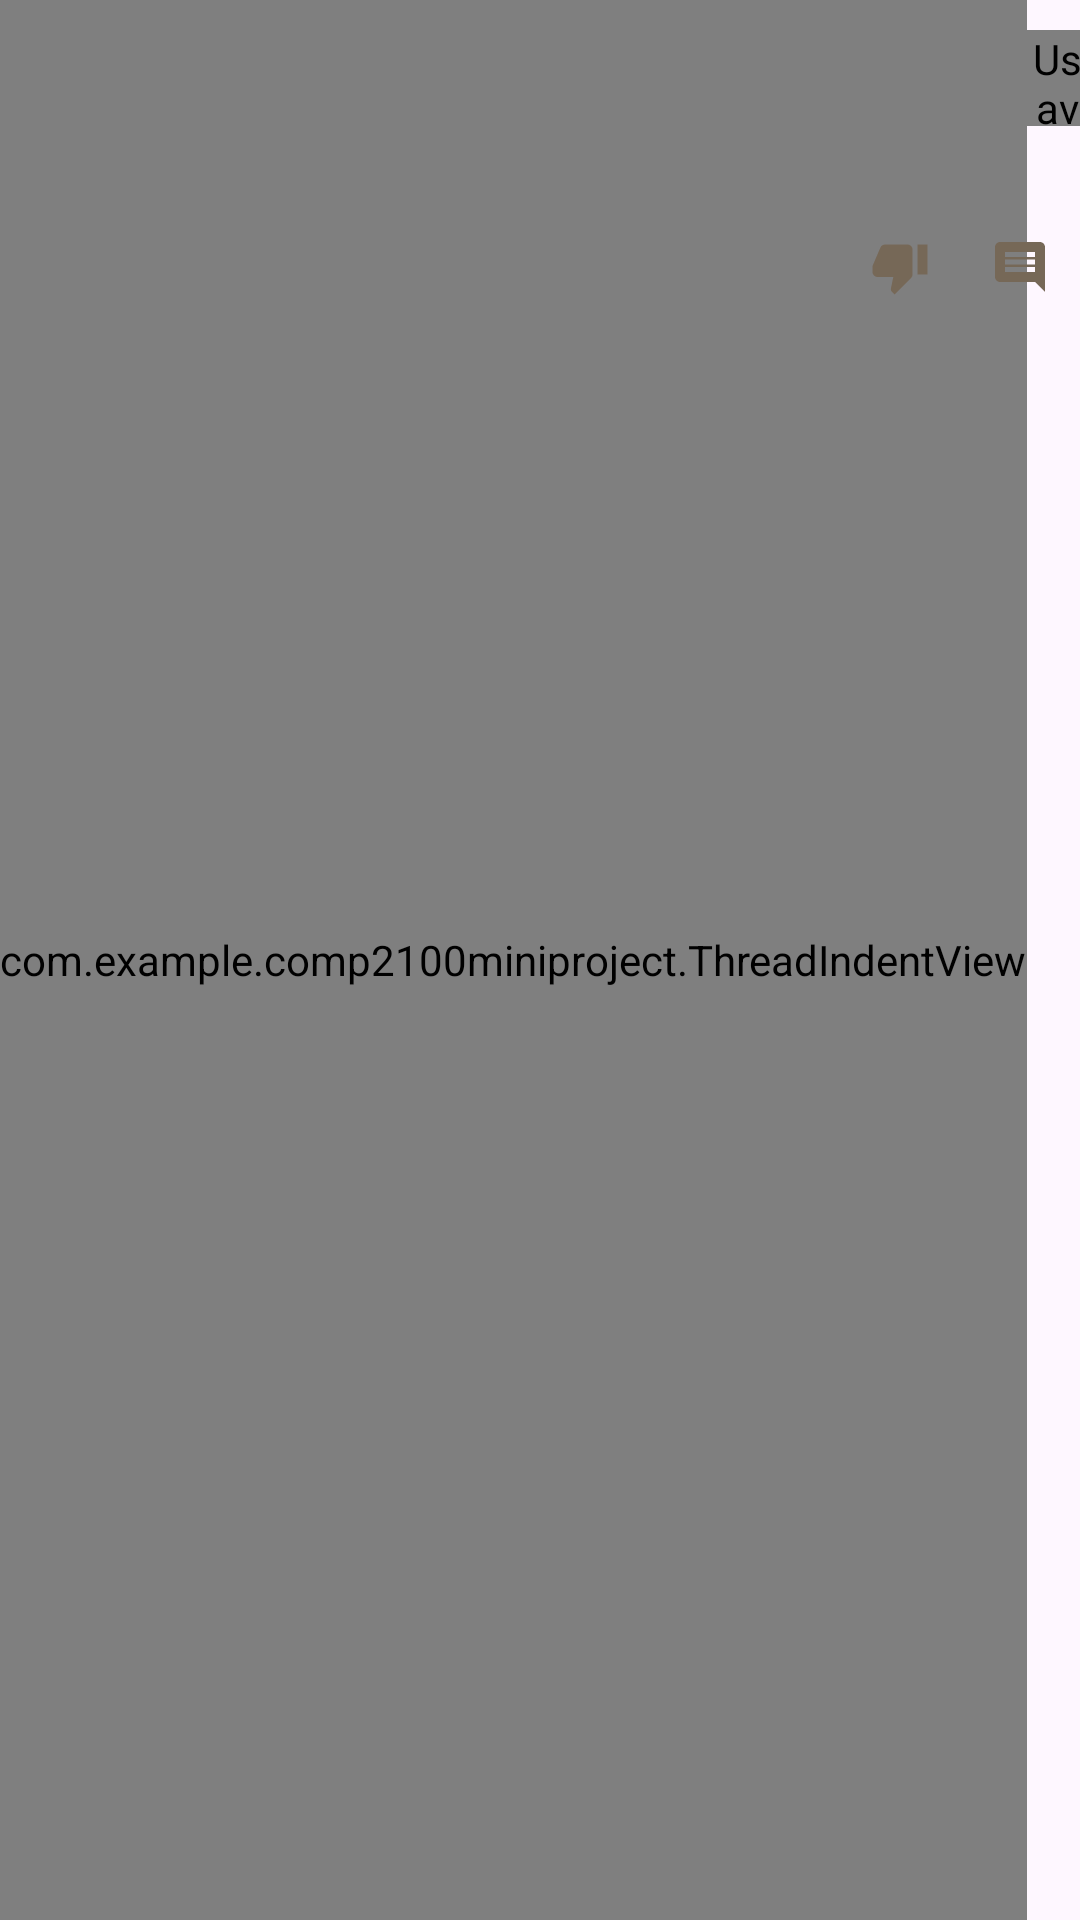

Where to tap for icons on this 1080 × 1920 app screen, as [x,y]:
Comment on this reply: [1020,267]
Dislike: [900,269]
